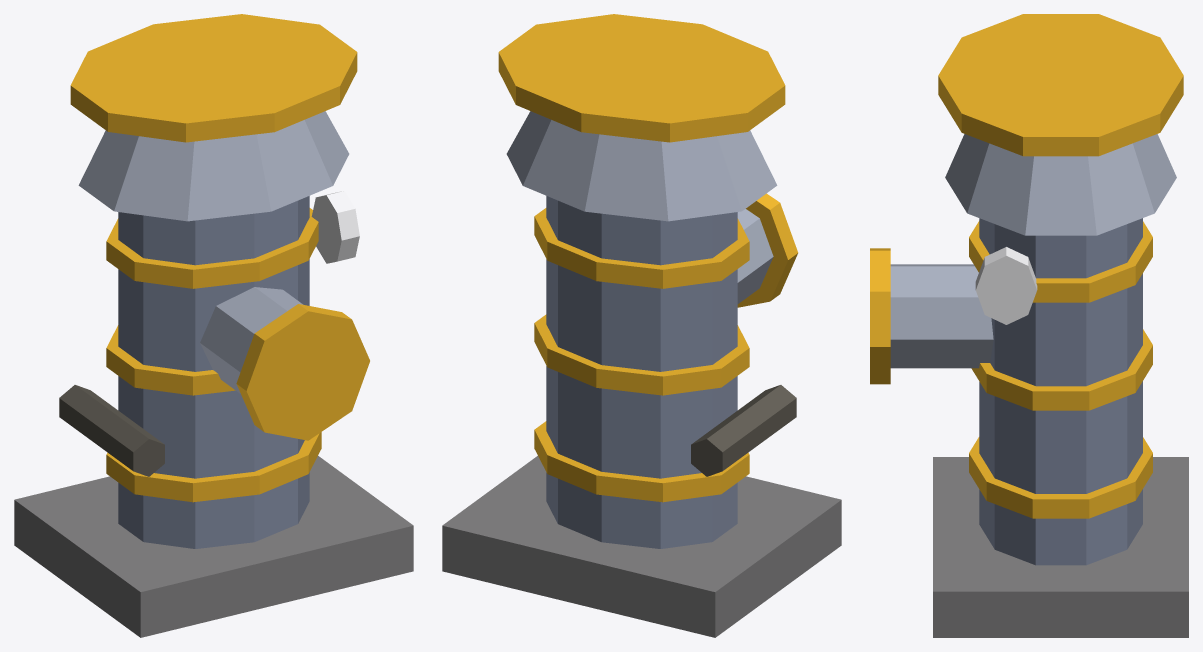
Rendered from pipe_link.glb.
The picture shows the model from 3 angles, left to right: view 1: azimuth 30°, elevation 25°; view 2: azimuth 150°, elevation 25°; view 3: azimuth 270°, elevation 25°; orthographic projection.
Visible parts, largest first — view 1: pipe_link; view 2: pipe_link; view 3: pipe_link.
Boxes of the visible parts, box(x1,y1,x2,y2) form: pipe_link: box(14, 14, 413, 637); pipe_link: box(442, 14, 841, 637); pipe_link: box(870, 14, 1188, 637).
Bounding box in the file's own units: 0.75 × 1.28 × 0.75.
